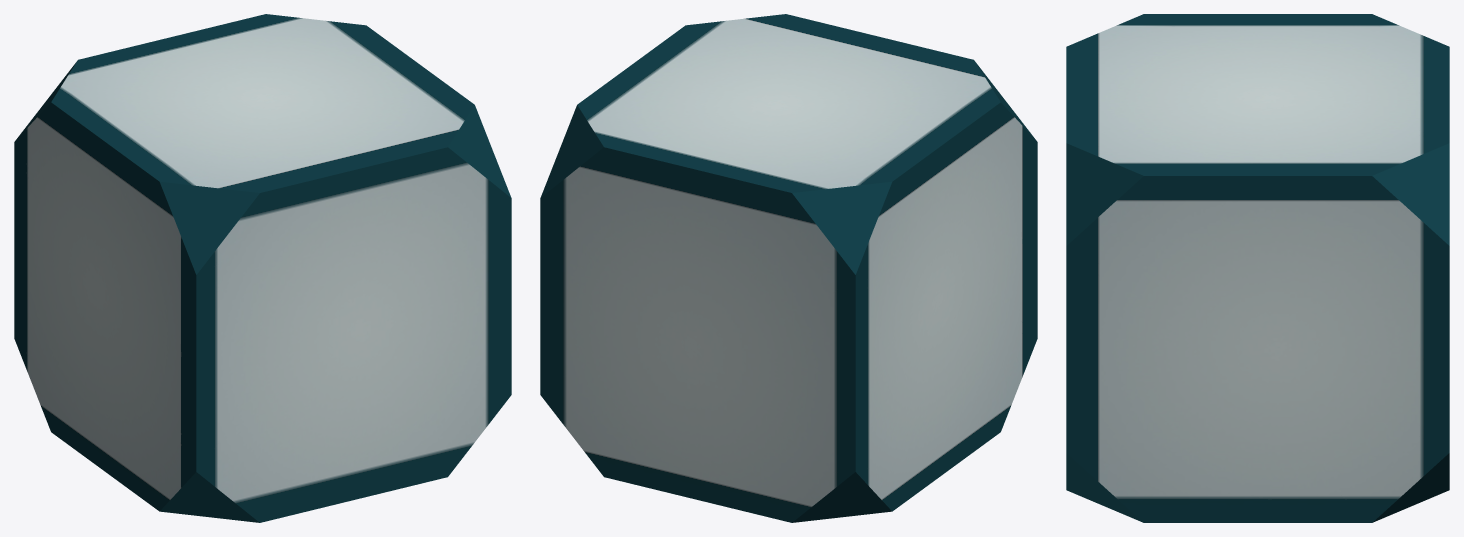
The model's file is HeZi01.FBX.
3 renders of one model, left to right at view 1: azimuth 30°, elevation 25°; view 2: azimuth 150°, elevation 25°; view 3: azimuth 270°, elevation 25°, orthographic. The views are drawn at different scales.
Parts seen in each view (by area): view 1: HeZi01; view 2: HeZi01; view 3: HeZi01.
Part boxes in pixels (box(x1,y1,x2,y2)): HeZi01: box(14, 14, 511, 522); HeZi01: box(540, 14, 1037, 522); HeZi01: box(1066, 14, 1449, 522).
Bounding box in the file's own units: 15.75 × 15.75 × 15.75.
